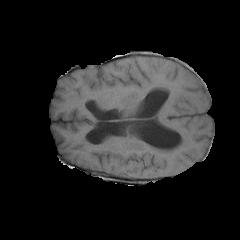glioma: (83, 131, 189, 172)
